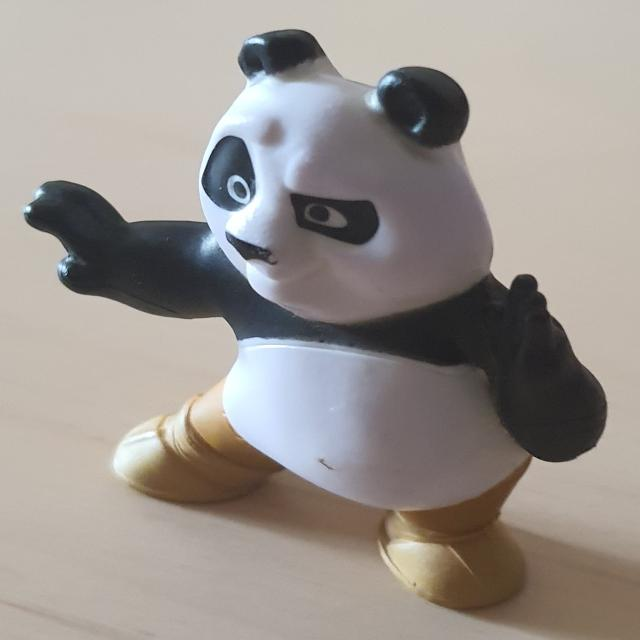Panda: (23, 28, 609, 610)
